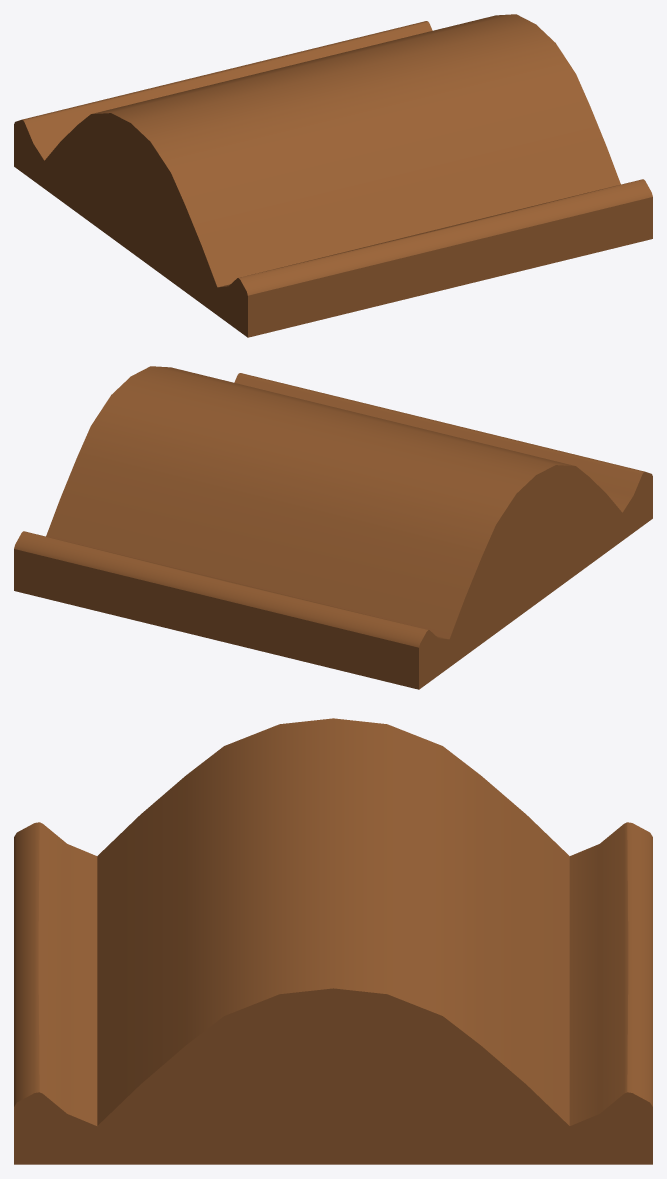
Rendered from 003_004_wall_deco_2_joins.glb.
3 renders of one model, top to bottom at view 1: azimuth 30°, elevation 25°; view 2: azimuth 150°, elevation 25°; view 3: azimuth 270°, elevation 25°, orthographic. The views are drawn at different scales.
Parts seen in each view (by area): view 1: Plane; view 2: Plane; view 3: Plane.
Part boxes in pixels (x1,y1,x2,y2): Plane: (14, 14, 652, 337); Plane: (14, 366, 652, 689); Plane: (14, 718, 652, 1164).
Size of the model in its own units: 0.75 by 0.2282 by 0.75.
